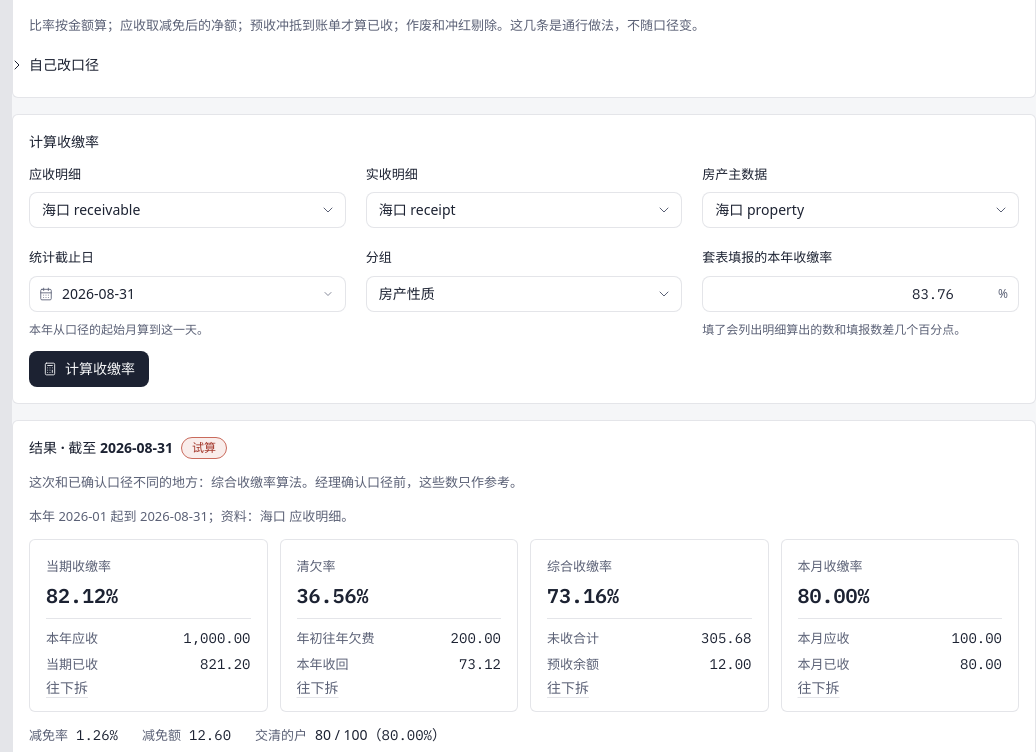
Scenario: runs on the confirmed tables with the date and the reported rate, and shows the rates, the gap and the rows to look at
(page scrolled)
Expected: the text "试算" is shown, 181,437 -> 227,459
Expected: the text "这次和已确认口径不同的地方：综合收缴率算法。经理确认口径前，这些数只作参考。" is shown, 29,473 -> 523,491
Click the button "计算收缴率".
click(89, 369)  # box 29,351 -> 149,387
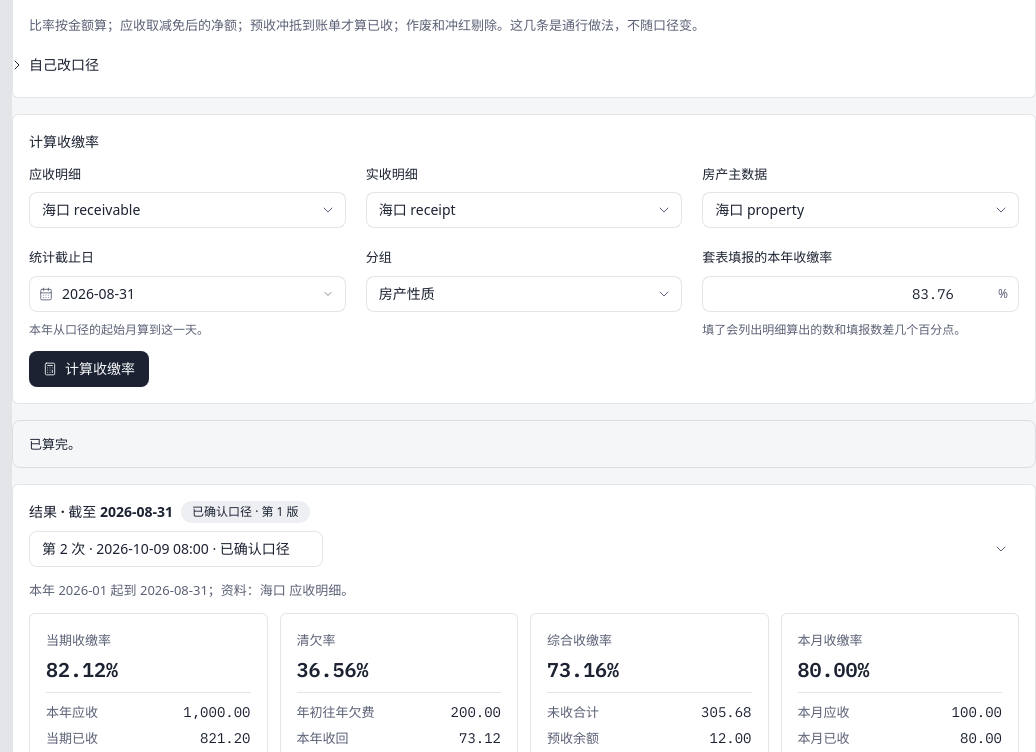
Result: the text "已确认口径 · 第 1 版" is shown at 181,501 -> 310,523
